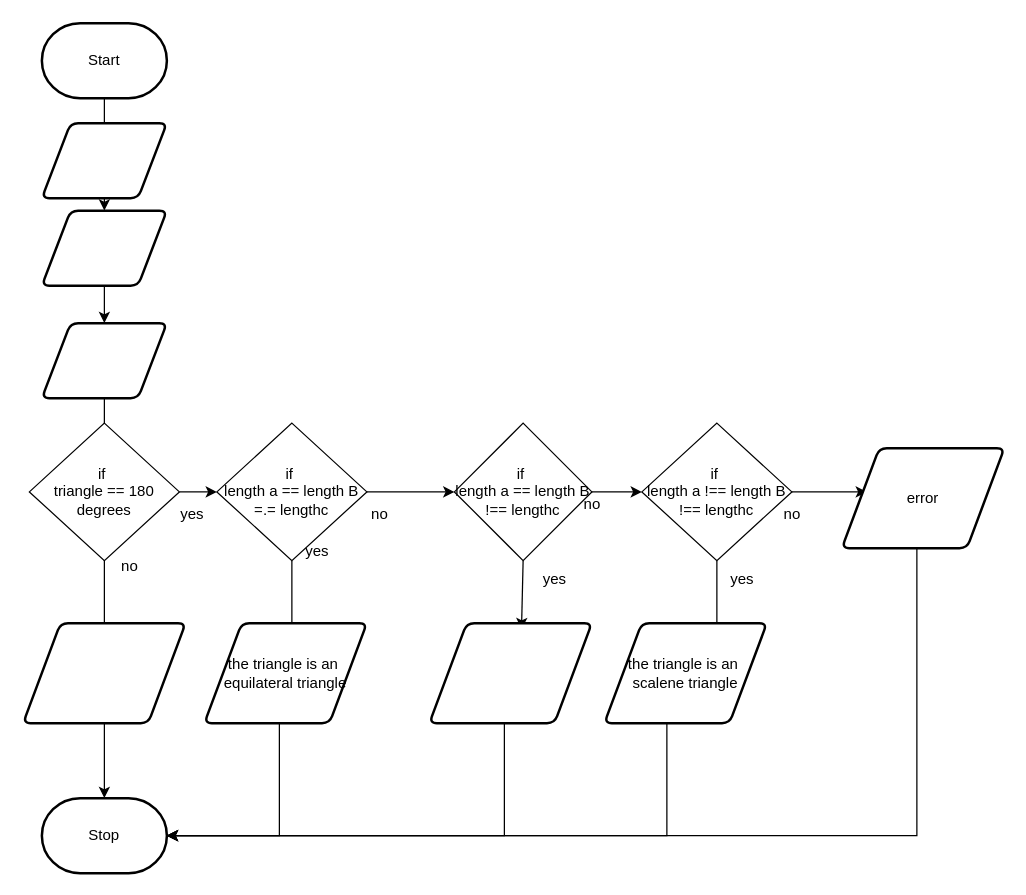
Image size: 1026x895. Some labels were removed from this diagram. The shapes that lost their labels are listed below. From the top down, each one's centre as x and y in pixels, then its label:
the point at 104,160: enter length A
the point at 104,247: enter length B
the point at 104,360: enter length C
the point at 103,672: not a triangle
the point at 510,672: the triangle is an isosceles triangle
